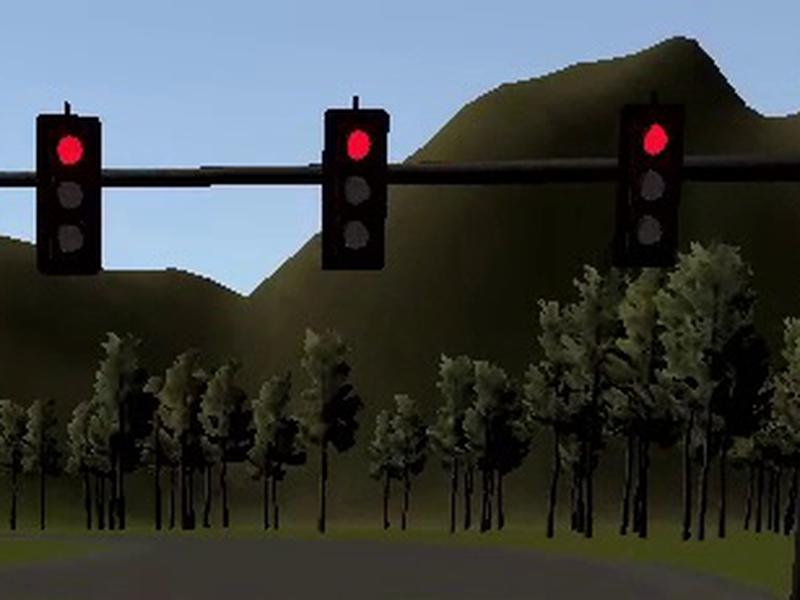Red: (321, 109, 389, 269), (617, 106, 685, 266), (35, 113, 101, 276)
